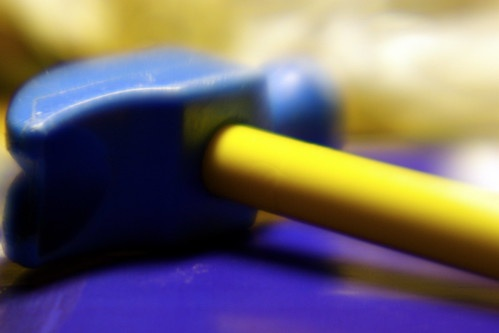hammer: (8, 41, 499, 294)
